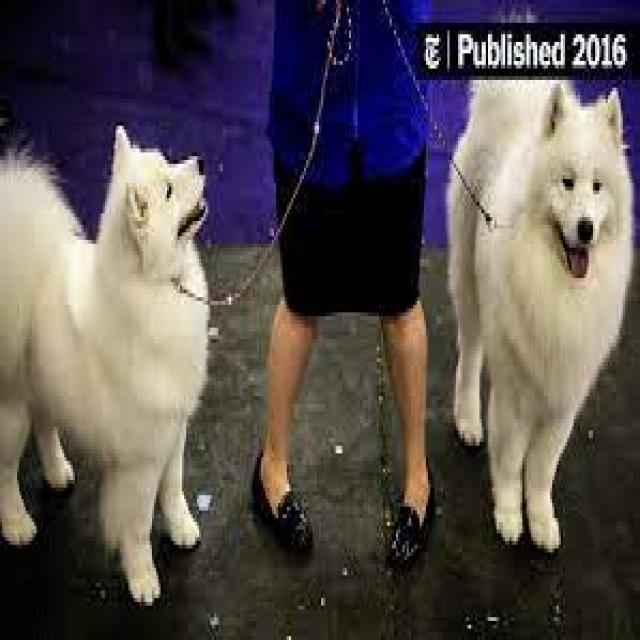dogs: (0, 123, 211, 606), (444, 76, 635, 553)
